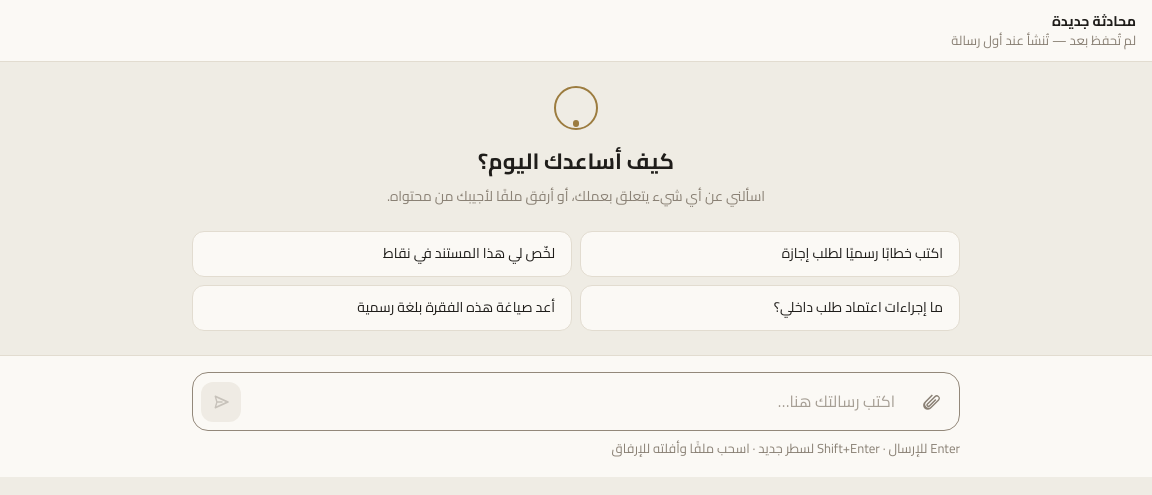
مصادر أول رد › رد بلا مصادر لا يعرض شريحة
Type "سؤال" into the text box.
click(576, 402); type("سؤال")  # box [249, 381, 903, 422]
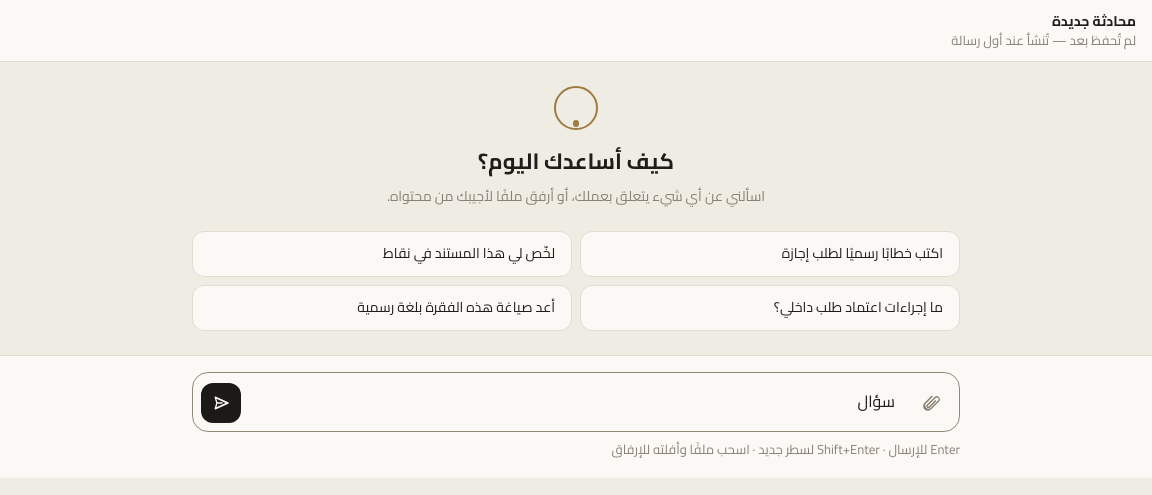
Press Enter in the text box, box [249, 381, 903, 423]
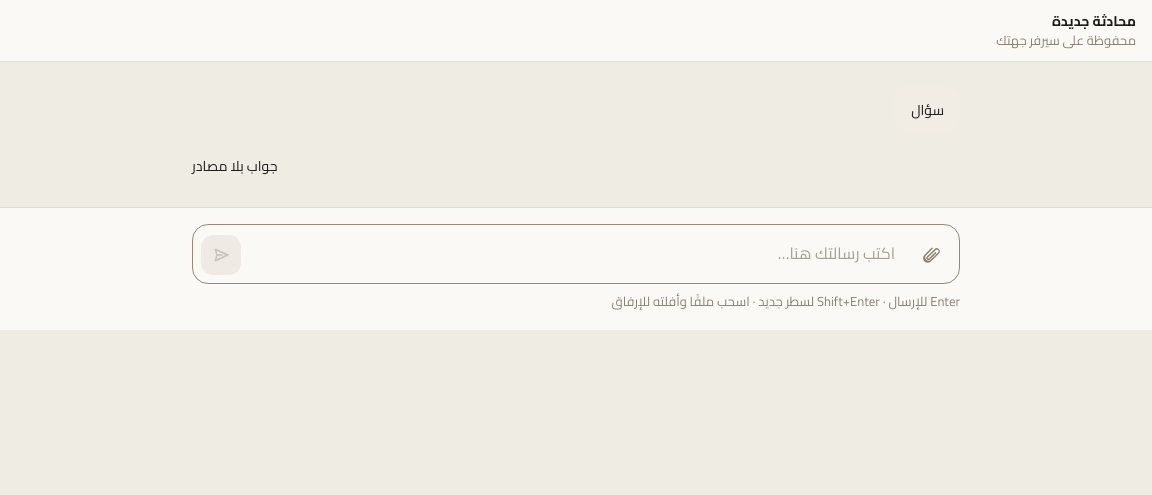
expect the text "جواب بلا مصادر" is shown: met, box [192, 150, 278, 183]
